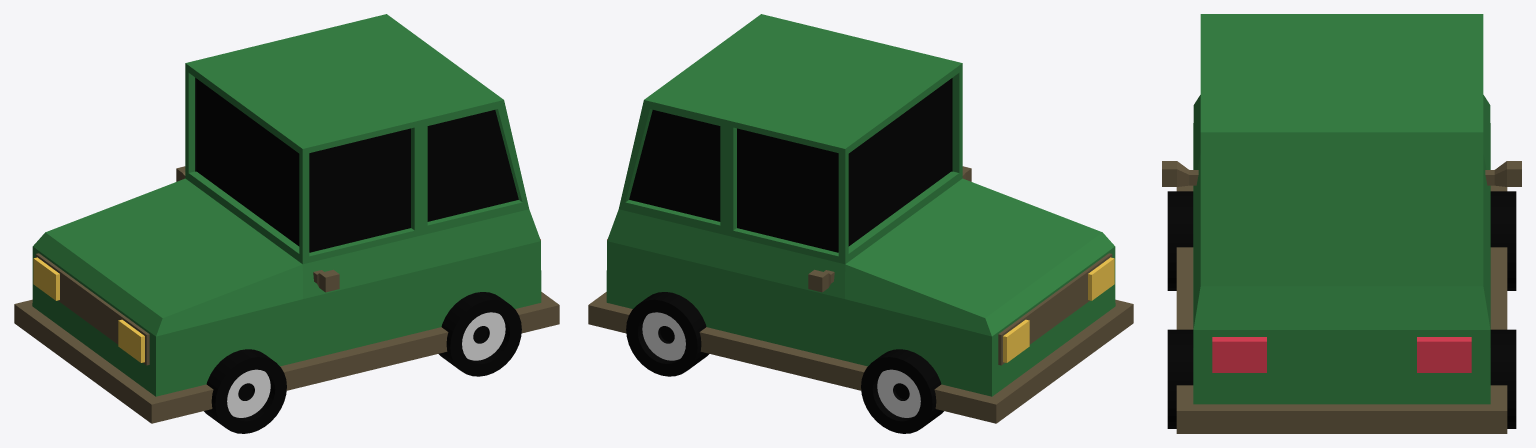
Rendered from car3.fbx.
The picture shows the model from 3 angles, left to right: view 1: azimuth 30°, elevation 25°; view 2: azimuth 150°, elevation 25°; view 3: azimuth 270°, elevation 25°; orthographic projection. The views are drawn at different scales.
Parts seen in each view (by area): view 1: Cylinder.002; view 2: Cylinder.002; view 3: Cylinder.002.
Boxes of the visible parts, box(x1,y1,x2,y2) form: Cylinder.002: box(14, 14, 559, 433); Cylinder.002: box(588, 14, 1133, 433); Cylinder.002: box(1162, 14, 1521, 433).
Size of the model in its own units: 402 by 243 by 254.
